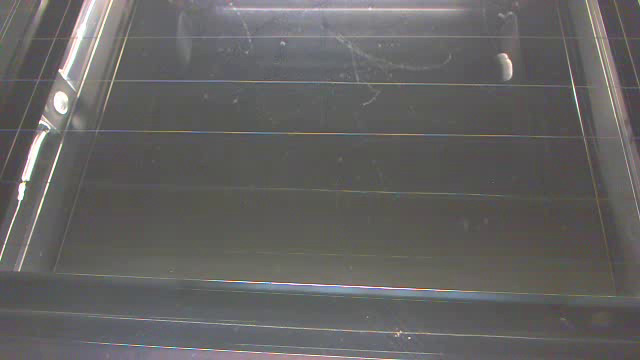alpha: (498, 52, 513, 82)
